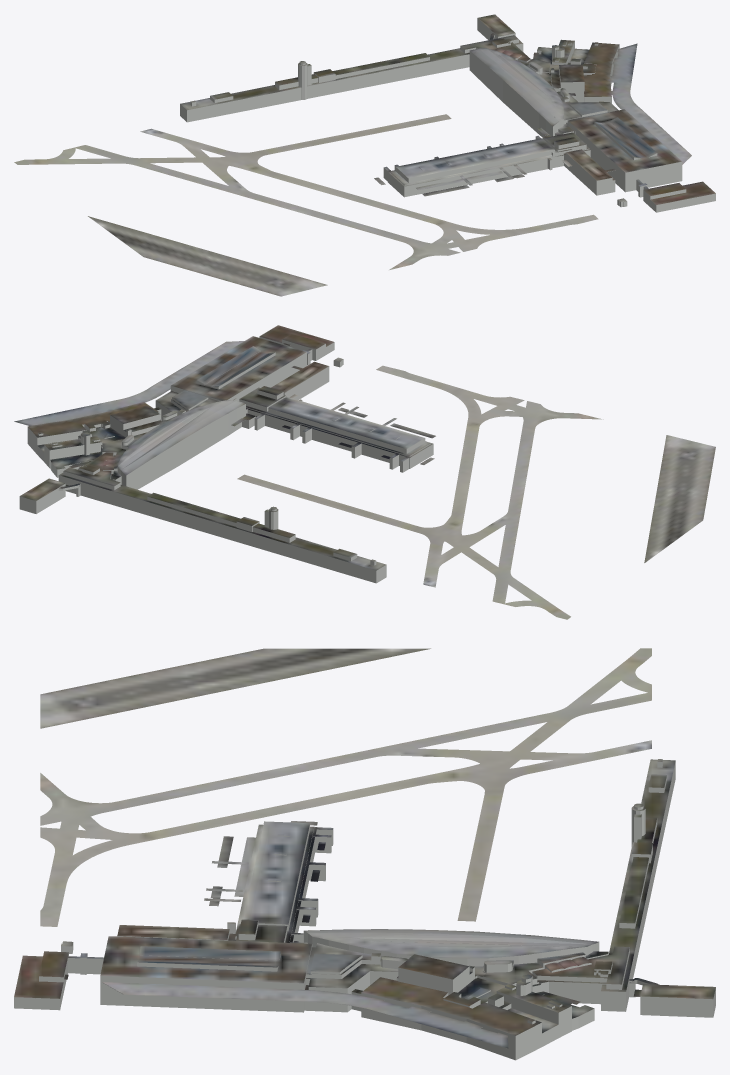
File: LSZH_1_-2.glb
The picture shows the model from 3 angles, top to bottom: view 1: azimuth 30°, elevation 25°; view 2: azimuth 150°, elevation 25°; view 3: azimuth 270°, elevation 25°; orthographic projection. The views are drawn at different scales.
Parts seen in each view (by area): view 1: building_6ed3b0851f7eae46, building_251186a55e0c95b6, pavement_LSZH_pavement_5368_2512; view 2: building_6ed3b0851f7eae46, building_251186a55e0c95b6, pavement_LSZH_pavement_5368_2512; view 3: building_6ed3b0851f7eae46, pavement_LSZH_pavement_5368_2512, building_251186a55e0c95b6, pavement_LSZH_pavement_5369_2512.
Boxes of the visible parts, x1,y1,x2,y2 form: building_6ed3b0851f7eae46: [180, 14, 715, 205]; building_251186a55e0c95b6: [180, 18, 715, 212]; pavement_LSZH_pavement_5368_2512: [14, 118, 570, 296]; building_6ed3b0851f7eae46: [14, 325, 435, 570]; building_251186a55e0c95b6: [19, 336, 433, 583]; pavement_LSZH_pavement_5368_2512: [257, 373, 715, 619]; building_6ed3b0851f7eae46: [14, 759, 715, 1048]; pavement_LSZH_pavement_5368_2512: [40, 648, 651, 906]; building_251186a55e0c95b6: [14, 760, 715, 1060]; pavement_LSZH_pavement_5369_2512: [40, 907, 478, 926].
Bounding box in the file's own units: 813 × 48.92 × 574.
Materials: 3 (2 with a texture image).
